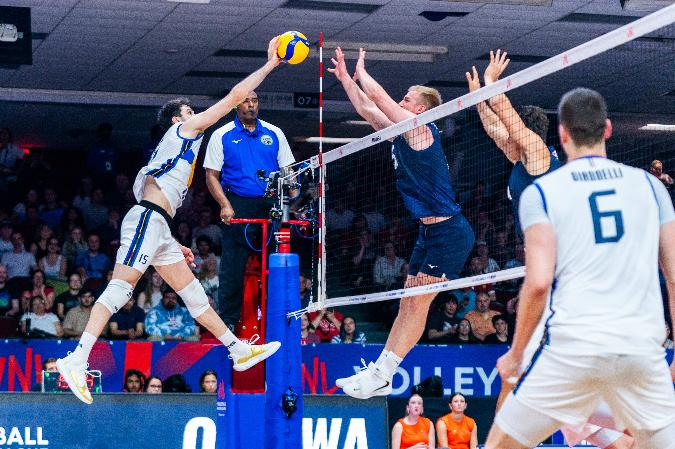ballon_volley: (276, 30, 309, 65)
